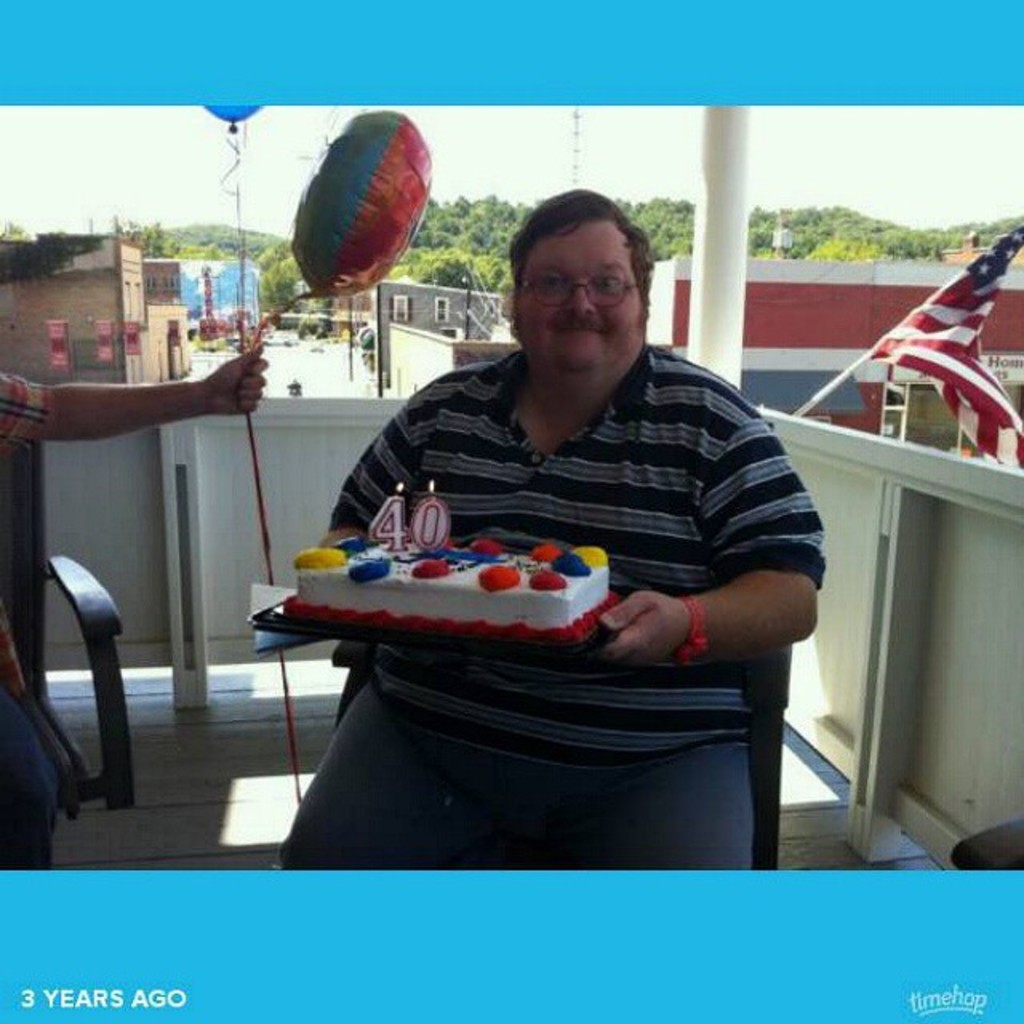cake: (283, 534, 618, 642)
